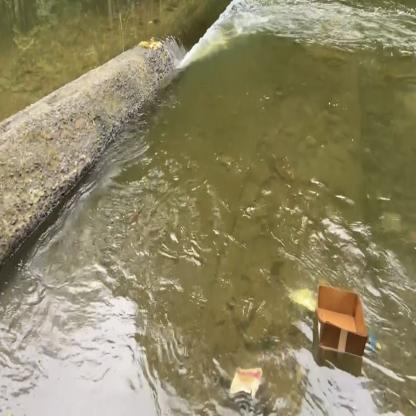trash: (312, 280, 369, 366), (226, 360, 266, 406), (289, 284, 320, 316)
